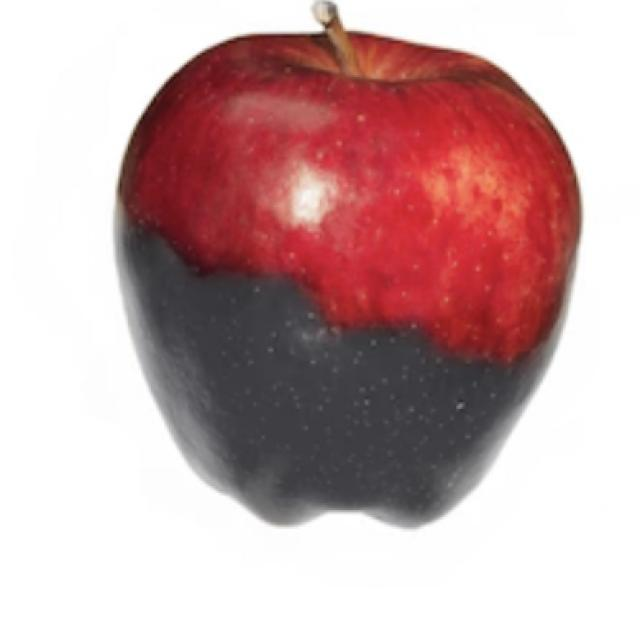Rotten: (105, 22, 585, 533)
